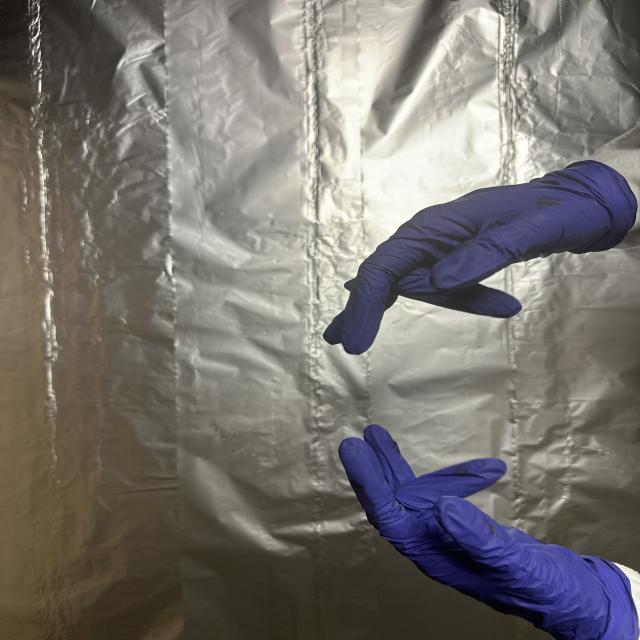gloves_contaminated: (339, 424, 639, 640), (324, 161, 637, 354)
